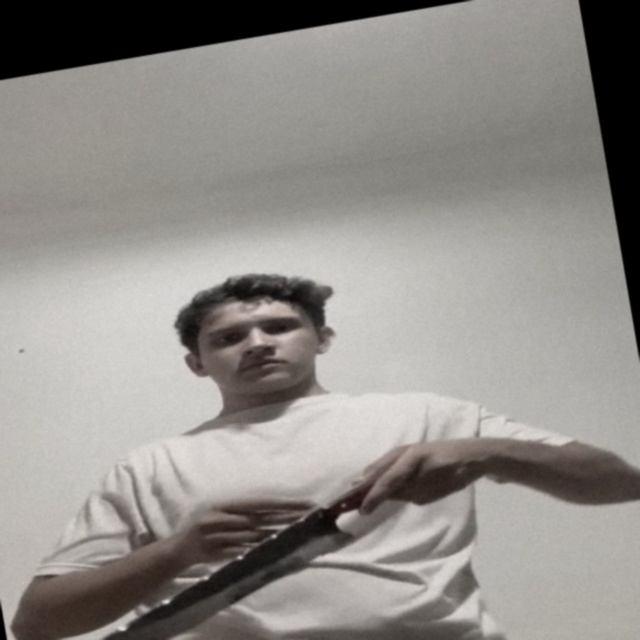Sharp-Object: (36, 506, 365, 640)
